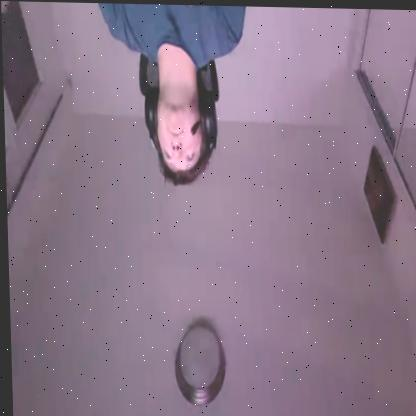streamer: (94, 2, 252, 187)
